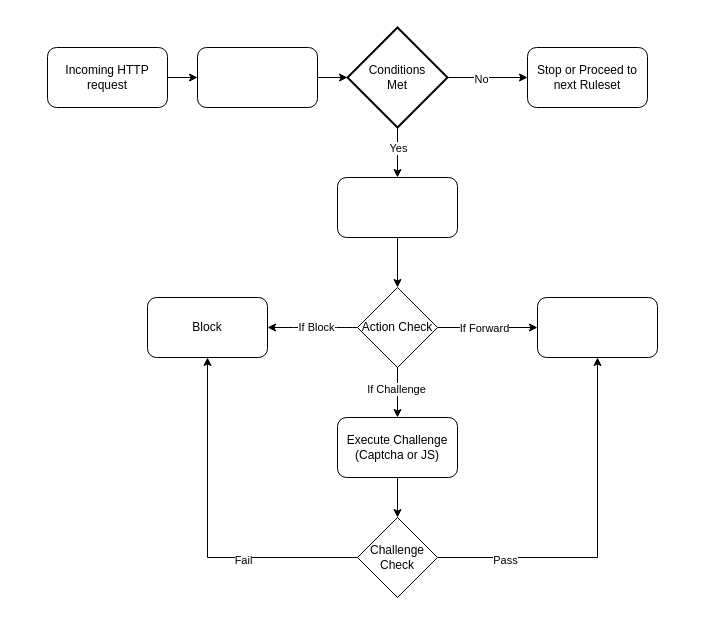
The diagram is 724 pixels wide and 634 high, and some of its shapes have lost their labels. Each missing label, with the box of its shape:
Evaluate Conditions: (196, 46, 318, 108)
Execute Action: (336, 176, 458, 238)
Forward Request: (536, 296, 658, 358)
